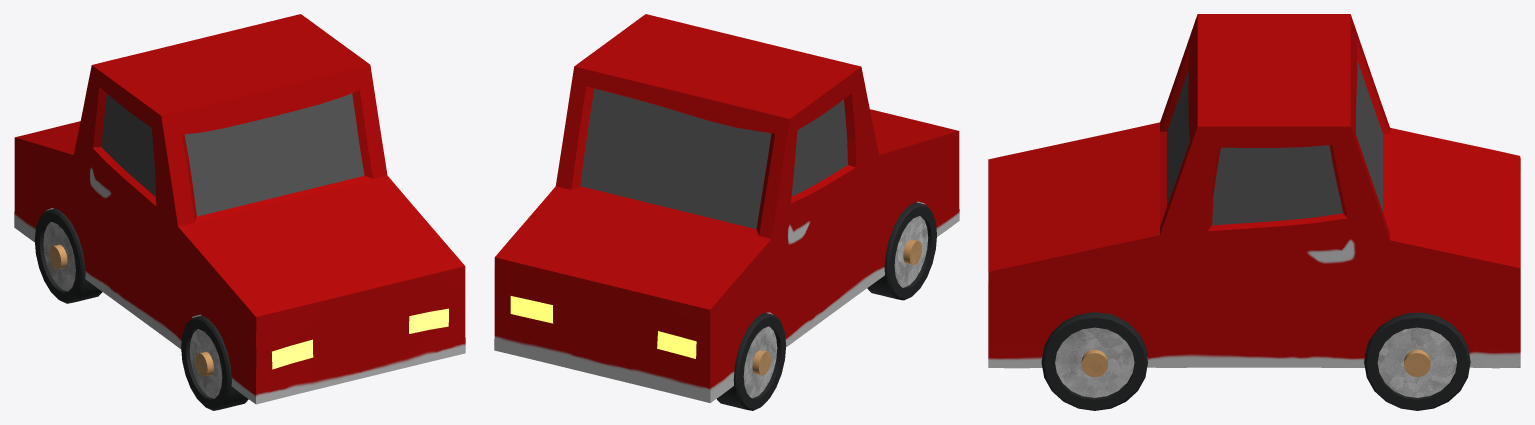
File: final_car.fbx
3 renders of one model, left to right at view 1: azimuth 30°, elevation 25°; view 2: azimuth 150°, elevation 25°; view 3: azimuth 270°, elevation 25°, orthographic. The views are drawn at different scales.
Parts seen in each view (by area): view 1: polySurface1, wheel1, wheel2; view 2: polySurface1, wheel1, wheel2; view 3: polySurface1, wheel3, wheel4.
Boxes of the visible parts, bbox=[...] form: polySurface1: bbox=[14, 14, 465, 404]; wheel1: bbox=[181, 315, 248, 410]; wheel2: bbox=[34, 208, 102, 303]; polySurface1: bbox=[494, 14, 959, 402]; wheel1: bbox=[867, 202, 936, 300]; wheel2: bbox=[717, 313, 786, 410]; polySurface1: bbox=[988, 14, 1520, 368]; wheel3: bbox=[1041, 312, 1147, 410]; wheel4: bbox=[1364, 312, 1470, 410].
Size of the model in its own units: 21.2 by 23.51 by 40.03.
